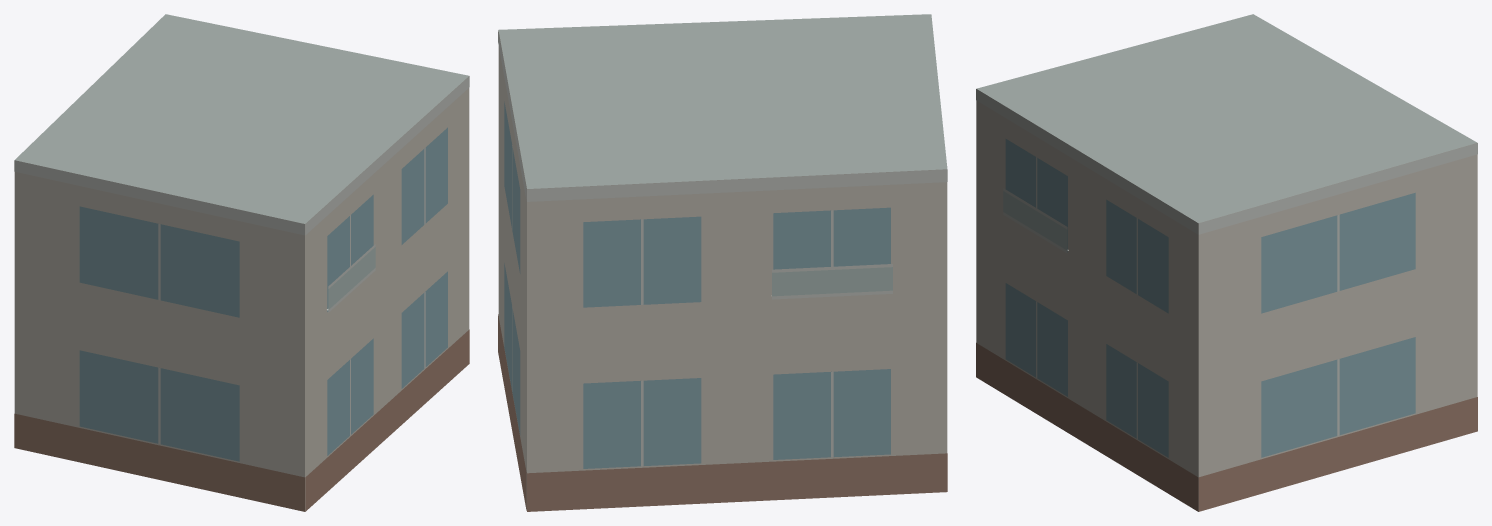
Rendered from survey-upis-32990172.glb.
The picture shows the model from 3 angles, left to right: view 1: azimuth 30°, elevation 25°; view 2: azimuth 150°, elevation 25°; view 3: azimuth 270°, elevation 25°; orthographic projection. The views are drawn at different scales.
Parts seen in each view (by area): view 1: survey-upis-32990172.tmp; view 2: survey-upis-32990172.tmp; view 3: survey-upis-32990172.tmp.
Boxes of the visible parts, x1=… form: survey-upis-32990172.tmp: x1=14, y1=14, x2=469, y2=511; survey-upis-32990172.tmp: x1=498, y1=14, x2=947, y2=511; survey-upis-32990172.tmp: x1=976, y1=14, x2=1477, y2=511.
Size of the model in its own units: 9.5 by 6.1 by 9.62.
